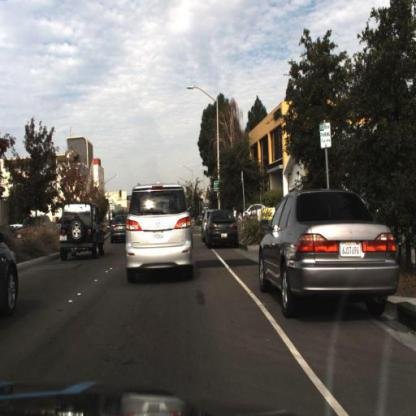car: (246, 176, 404, 334), (124, 170, 197, 291), (53, 196, 113, 269), (57, 200, 107, 259), (1, 233, 26, 333), (1, 227, 24, 324), (200, 202, 241, 251), (103, 208, 137, 251)
